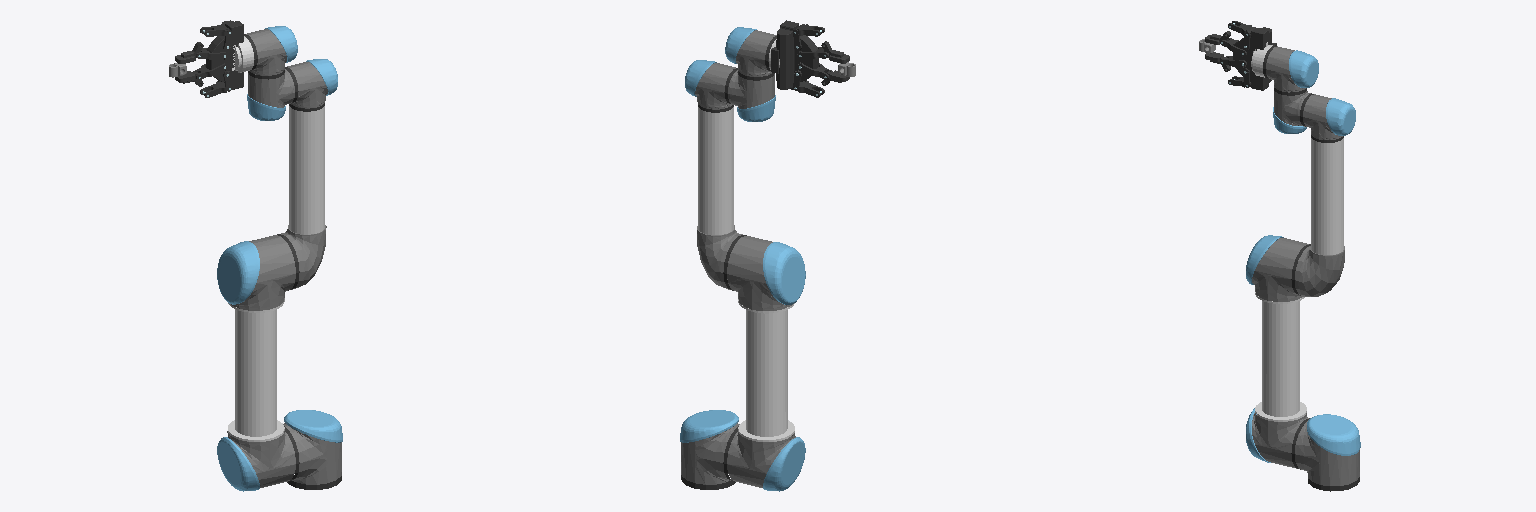
--- Render facts (derived) ---
Views: 3 orthographic renders of the robot side by side, from view 1: azimuth 30°, elevation 25°; view 2: azimuth 150°, elevation 25°; view 3: azimuth 330°, elevation 25°.
Robot: robot_base_respondable — 17 links, 16 joints (10 revolute, 6 continuous); root link robot_base; default pose: all joints at 0.
Links seen in each view (by area): view 1: link_2_respondable_respondable_respondable_respondable_respondab, link_3_respondable_respondable_respondable_respondable_respondab, link_respondable_respondable_respondable_respondable_respondable, link_5_respondable_respondable_respondable_respondable_respondab, link_4_respondable_respondable_respondable_respondable_respondab, robotiq_base_respondable_respondable_respondable_respondable_res, link_6_respondable_respondable_respondable_respondable_respondab; view 2: link_2_respondable_respondable_respondable_respondable_respondab, link_3_respondable_respondable_respondable_respondable_respondab, link_respondable_respondable_respondable_respondable_respondable, link_5_respondable_respondable_respondable_respondable_respondab, link_4_respondable_respondable_respondable_respondable_respondab, robotiq_base_respondable_respondable_respondable_respondable_res; view 3: link_2_respondable_respondable_respondable_respondable_respondab, link_3_respondable_respondable_respondable_respondable_respondab, link_respondable_respondable_respondable_respondable_respondable, link_5_respondable_respondable_respondable_respondable_respondab, link_4_respondable_respondable_respondable_respondable_respondab, robotiq_base_respondable_respondable_respondable_respondable_res.
Boxes of the visible links, x1,y1,x2,y2 form: link_2_respondable_respondable_respondable_respondable_respondab: (217,234,299,491); link_3_respondable_respondable_respondable_respondable_respondab: (281,59,337,289); link_respondable_respondable_respondable_respondable_respondable: (283,410,342,484); link_5_respondable_respondable_respondable_respondable_respondab: (244,26,297,79); link_4_respondable_respondable_respondable_respondable_respondab: (247,67,298,120); robotiq_base_respondable_respondable_respondable_respondable_res: (206,20,243,89); link_6_respondable_respondable_respondable_respondable_respondab: (235,36,253,72); link_2_respondable_respondable_respondable_respondable_respondab: (723,235,805,491); link_3_respondable_respondable_respondable_respondable_respondab: (685,60,742,289); link_respondable_respondable_respondable_respondable_respondable: (680,410,739,484); link_5_respondable_respondable_respondable_respondable_respondab: (725,27,776,80); link_4_respondable_respondable_respondable_respondable_respondab: (724,68,775,121); robotiq_base_respondable_respondable_respondable_respondable_res: (771,20,818,89); link_2_respondable_respondable_respondable_respondable_respondab: (1246,235,1310,468); link_3_respondable_respondable_respondable_respondable_respondab: (1295,94,1355,296); link_respondable_respondable_respondable_respondable_respondable: (1291,414,1360,485); link_5_respondable_respondable_respondable_respondable_respondab: (1263,46,1318,95); link_4_respondable_respondable_respondable_respondable_respondab: (1273,91,1313,133); robotiq_base_respondable_respondable_respondable_respondable_res: (1233,27,1276,90).
Size in the robot's own frame: 0.3992 by 0.12 by 1.06 metres.
Meshes: 42 distinct files referenced, 42 mesh visuals loaded (42 Collada DAE).

The robot description file, URDF, robot "robot_base_respondable":
<?xml version="1.0"?>
<robot name="robot_base_respondable">
    <link name="robot_base">
        <collision name="robot_base_respondable">
            <origin xyz="0.000000 0.000000 0.008500" rpy="3.141592 3.141593 -2.552481" />
            <geometry>
                <cylinder length="0.012300089001656" radius="0.056886240839958" />
            </geometry>
        </collision>
        <collision name="robot_base_respondable">
            <origin xyz="0.000000 0.000000 -0.006150" rpy="-3.141592 3.141593 1.747927" />
            <geometry>
                <cylinder length="0.017000352963805" radius="0.072642646729946" />
            </geometry>
        </collision>
        <visual name="robot_base_visual">
            <origin xyz="0.000000 0.000000 -0.000000" rpy="3.141592 3.141593 3.141592" />
            <geometry>
                <mesh filename="models/urdf/ur5_industrial_16505/ur5_industrial_1_robot_base_visual_vis_1.dae" />
            </geometry>
            <material name="robot_base_visual_material">
                <color rgba="0.282353 0.282353 0.282353 1.0" />
            </material>
        </visual>
    </link>
    <joint type="revolute" name="joint">
        <axis xyz="0 0 1" />
        <limit lower="-6.2831854820251" upper="6.2831854820251" effort="200.0" velocity="1.5707963705063" />
        <parent link="robot_base" />
        <child link="link_respondable_respondable_respondable_respondable_respondable_respondable" />
        <origin xyz="-0.000000 0.000000 0.008500" rpy="3.141592 3.141593 3.141592" />
    </joint>
    <link name="link_respondable_respondable_respondable_respondable_respondable_respondable">
        <inertial>
            <origin rpy="3.141592 3.141593 3.141592" xyz="-0.012312 0.000048 0.066405" />
            <inertia izz="0.09818059467752" iyy="0.10672965841326" ixz="0.0024490834762624" ixy="8.9516803607533e-05" ixx="0.095492165355254" iyz="-7.9251186174956e-05" />
            <mass value="2.5" />
        </inertial>
        <collision name="link_respondable_respondable_respondable_respondable_respondable_respondable">
            <origin xyz="-0.007178 0.000095 0.070381" rpy="3.141592 3.141593 3.141592" />
            <geometry>
                <mesh filename="models/urdf/ur5_industrial_16505/ur5_industrial_1_link_respondable_respondable_respondable_respondable_respondable_respondable_coll_1.dae" />
            </geometry>
        </collision>
        <collision name="link_respondable_respondable_respondable_respondable_respondable_respondable">
            <origin xyz="-0.007178 0.000095 0.070381" rpy="3.141592 3.141593 3.141592" />
            <geometry>
                <mesh filename="models/urdf/ur5_industrial_16505/ur5_industrial_1_link_respondable_respondable_respondable_respondable_respondable_respondable_coll_2.dae" />
            </geometry>
        </collision>
        <collision name="link_respondable_respondable_respondable_respondable_respondable_respondable">
            <origin xyz="-0.007178 0.000095 0.070381" rpy="3.141592 3.141593 3.141592" />
            <geometry>
                <mesh filename="models/urdf/ur5_industrial_16505/ur5_industrial_1_link_respondable_respondable_respondable_respondable_respondable_respondable_coll_3.dae" />
            </geometry>
        </collision>
        <visual name="link_respondable_respondable_respondable_respondable_respondable_visual">
            <origin xyz="-0.007150 0.000000 0.070335" rpy="3.141592 3.141593 3.141592" />
            <geometry>
                <mesh filename="models/urdf/ur5_industrial_16505/ur5_industrial_1_link_respondable_respondable_respondable_respondable_respondable_visual_vis_1.dae" />
            </geometry>
            <material name="link_respondable_respondable_respondable_respondable_respondable_visual_material">
                <color rgba="0.282353 0.282353 0.282353 1.0" />
            </material>
        </visual>
        <visual name="link_respondable_respondable_respondable_respondable_respondable_visual">
            <origin xyz="-0.007150 0.000000 0.070335" rpy="3.141592 3.141593 3.141592" />
            <geometry>
                <mesh filename="models/urdf/ur5_industrial_16505/ur5_industrial_1_link_respondable_respondable_respondable_respondable_respondable_visual_vis_2.dae" />
            </geometry>
            <material name="link_respondable_respondable_respondable_respondable_respondable_visual_material">
                <color rgba="0.535294 0.535294 0.535294 1.0" />
            </material>
        </visual>
        <visual name="link_respondable_respondable_respondable_respondable_respondable_visual">
            <origin xyz="-0.007150 0.000000 0.070335" rpy="3.141592 3.141593 3.141592" />
            <geometry>
                <mesh filename="models/urdf/ur5_industrial_16505/ur5_industrial_1_link_respondable_respondable_respondable_respondable_respondable_visual_vis_3.dae" />
            </geometry>
            <material name="link_respondable_respondable_respondable_respondable_respondable_visual_material">
                <color rgba="0.508235 0.761224 0.903529 1.0" />
            </material>
        </visual>
    </link>
    <joint type="revolute" name="joint_2">
        <axis xyz="0 0 1" />
        <limit lower="-6.2831854820251" upper="6.2831854820251" effort="200.0" velocity="1.5707963705063" />
        <parent link="link_respondable_respondable_respondable_respondable_respondable_respondable" />
        <child link="link_2_respondable_respondable_respondable_respondable_respondable_respondable" />
        <origin xyz="-0.070300 0.000000 0.066050" rpy="0.000001 -1.570796 0.000000" />
    </joint>
    <link name="link_2_respondable_respondable_respondable_respondable_respondable_respondable">
        <inertial>
            <origin rpy="-0.000000 1.570796 0.000000" xyz="0.215595 -0.000035 0.063573" />
            <inertia izz="0.067345368316432" iyy="0.63325135224174" ixz="-0.0052638063542259" ixy="9.2431180680848e-06" ixx="0.62573305153059" iyz="-0.00017721757850982" />
            <mass value="5.6999998092651" />
        </inertial>
        <collision name="link_2_respondable_respondable_respondable_respondable_respondable_respondable">
            <origin xyz="0.212550 -0.000115 0.064235" rpy="-0.000000 1.570796 0.000000" />
            <geometry>
                <mesh filename="models/urdf/ur5_industrial_16505/ur5_industrial_1_link_2_respondable_respondable_respondable_respondable_respondable_respondable_coll_1.dae" />
            </geometry>
        </collision>
        <collision name="link_2_respondable_respondable_respondable_respondable_respondable_respondable">
            <origin xyz="0.212550 -0.000115 0.064235" rpy="-0.000000 1.570796 0.000000" />
            <geometry>
                <mesh filename="models/urdf/ur5_industrial_16505/ur5_industrial_1_link_2_respondable_respondable_respondable_respondable_respondable_respondable_coll_2.dae" />
            </geometry>
        </collision>
        <collision name="link_2_respondable_respondable_respondable_respondable_respondable_respondable">
            <origin xyz="0.212550 -0.000115 0.064235" rpy="-0.000000 1.570796 0.000000" />
            <geometry>
                <mesh filename="models/urdf/ur5_industrial_16505/ur5_industrial_1_link_2_respondable_respondable_respondable_respondable_respondable_respondable_coll_3.dae" />
            </geometry>
        </collision>
        <collision name="link_2_respondable_respondable_respondable_respondable_respondable_respondable">
            <origin xyz="0.212550 -0.000115 0.064235" rpy="-0.000000 1.570796 0.000000" />
            <geometry>
                <mesh filename="models/urdf/ur5_industrial_16505/ur5_industrial_1_link_2_respondable_respondable_respondable_respondable_respondable_respondable_coll_4.dae" />
            </geometry>
        </collision>
        <collision name="link_2_respondable_respondable_respondable_respondable_respondable_respondable">
            <origin xyz="0.212550 -0.000115 0.064235" rpy="-0.000000 1.570796 0.000000" />
            <geometry>
                <mesh filename="models/urdf/ur5_industrial_16505/ur5_industrial_1_link_2_respondable_respondable_respondable_respondable_respondable_respondable_coll_5.dae" />
            </geometry>
        </collision>
        <collision name="link_2_respondable_respondable_respondable_respondable_respondable_respondable">
            <origin xyz="0.212550 -0.000115 0.064235" rpy="-0.000000 1.570796 0.000000" />
            <geometry>
                <mesh filename="models/urdf/ur5_industrial_16505/ur5_industrial_1_link_2_respondable_respondable_respondable_respondable_respondable_respondable_coll_6.dae" />
            </geometry>
        </collision>
        <collision name="link_2_respondable_respondable_respondable_respondable_respondable_respondable">
            <origin xyz="0.212550 -0.000115 0.064235" rpy="-0.000000 1.570796 0.000000" />
            <geometry>
                <mesh filename="models/urdf/ur5_industrial_16505/ur5_industrial_1_link_2_respondable_respondable_respondable_respondable_respondable_respondable_coll_7.dae" />
            </geometry>
        </collision>
        <visual name="link_2_respondable_respondable_respondable_respondable_respondable_visual">
            <origin xyz="0.212550 0.000000 0.064217" rpy="-0.000000 1.570796 0.000000" />
            <geometry>
                <mesh filename="models/urdf/ur5_industrial_16505/ur5_industrial_1_link_2_respondable_respondable_respondable_respondable_respondable_visual_vis_1.dae" />
            </geometry>
            <material name="link_2_respondable_respondable_respondable_respondable_respondable_visual_material">
                <color rgba="0.870588 0.870588 0.870588 1.0" />
            </material>
        </visual>
        <visual name="link_2_respondable_respondable_respondable_respondable_respondable_visual">
            <origin xyz="0.212550 0.000000 0.064217" rpy="-0.000000 1.570796 0.000000" />
            <geometry>
                <mesh filename="models/urdf/ur5_industrial_16505/ur5_industrial_1_link_2_respondable_respondable_respondable_respondable_respondable_visual_vis_2.dae" />
            </geometry>
            <material name="link_2_respondable_respondable_respondable_respondable_respondable_visual_material">
                <color rgba="0.508235 0.761224 0.903529 1.0" />
            </material>
        </visual>
        <visual name="link_2_respondable_respondable_respondable_respondable_respondable_visual">
            <origin xyz="0.212550 0.000000 0.064217" rpy="-0.000000 1.570796 0.000000" />
            <geometry>
                <mesh filename="models/urdf/ur5_industrial_16505/ur5_industrial_1_link_2_respondable_respondable_respondable_respondable_respondable_visual_vis_3.dae" />
            </geometry>
            <material name="link_2_respondable_respondable_respondable_respondable_respondable_visual_material">
                <color rgba="0.535294 0.535294 0.535294 1.0" />
            </material>
        </visual>
        <visual name="link_2_respondable_respondable_respondable_respondable_respondable_visual">
            <origin xyz="0.212550 0.000000 0.064217" rpy="-0.000000 1.570796 0.000000" />
            <geometry>
                <mesh filename="models/urdf/ur5_industrial_16505/ur5_industrial_1_link_2_respondable_respondable_respondable_respondable_respondable_visual_vis_4.dae" />
            </geometry>
            <material name="link_2_respondable_respondable_respondable_respondable_respondable_visual_material">
                <color rgba="0.282353 0.282353 0.282353 1.0" />
            </material>
        </visual>
        <visual name="link_2_respondable_respondable_respondable_respondable_respondable_visual">
            <origin xyz="0.212550 0.000000 0.064217" rpy="-0.000000 1.570796 0.000000" />
            <geometry>
                <mesh filename="models/urdf/ur5_industrial_16505/ur5_industrial_1_link_2_respondable_respondable_respondable_respondable_respondable_visual_vis_5.dae" />
            </geometry>
            <material name="link_2_respondable_respondable_respondable_respondable_respondable_visual_material">
                <color rgba="0.535294 0.535294 0.535294 1.0" />
            </material>
        </visual>
        <visual name="link_2_respondable_respondable_respondable_respondable_respondable_visual">
            <origin xyz="0.212550 0.000000 0.064217" rpy="-0.000000 1.570796 0.000000" />
            <geometry>
                <mesh filename="models/urdf/ur5_industrial_16505/ur5_industrial_1_link_2_respondable_respondable_respondable_respondable_respondable_visual_vis_6.dae" />
            </geometry>
            <material name="link_2_respondable_respondable_respondable_respondable_respondable_visual_material">
                <color rgba="0.508235 0.761224 0.903529 1.0" />
            </material>
        </visual>
    </link>
    <joint type="revolute" name="joint_3">
        <axis xyz="0 0 1" />
        <limit lower="-6.2831854820251" upper="6.2831854820251" effort="200.0" velocity="1.5707963705063" />
        <parent link="link_2_respondable_respondable_respondable_respondable_respondable_respondable" />
        <child link="link_3_respondable_respondable_respondable_respondable_respondable_respondable" />
        <origin xyz="0.425100 -0.000000 0.000000" rpy="3.141593 3.141592 3.141592" />
    </joint>
    <link name="link_3_respondable_respondable_respondable_respondable_respondable_respondable">
        <inertial>
            <origin rpy="0.000000 1.570796 0.000000" xyz="0.192773 0.000015 -0.050153" />
            <inertia izz="0.035597955537677" iyy="0.46060709235019" ixz="-0.027670910392482" ixy="2.2187787147887e-06" ixx="0.4592564485459" iyz="-2.1029099787318e-05" />
            <mass value="3.9000000953674" />
        </inertial>
        <collision name="link_3_respondable_respondable_respondable_respondable_respondable_respondable">
            <origin xyz="0.186773 0.000016 -0.057847" rpy="0.000000 1.570796 0.000000" />
            <geometry>
                <mesh filename="models/urdf/ur5_industrial_16505/ur5_industrial_1_link_3_respondable_respondable_respondable_respondable_respondable_respondable_coll_1.dae" />
            </geometry>
        </collision>
        <collision name="link_3_respondable_respondable_respondable_respondable_respondable_respondable">
            <origin xyz="0.186773 0.000016 -0.057847" rpy="0.000000 1.570796 0.000000" />
            <geometry>
                <mesh filename="models/urdf/ur5_industrial_16505/ur5_industrial_1_link_3_respondable_respondable_respondable_respondable_respondable_respondable_coll_2.dae" />
            </geometry>
        </collision>
        <collision name="link_3_respondable_respondable_respondable_respondable_respondable_respondable">
            <origin xyz="0.186773 0.000016 -0.057847" rpy="0.000000 1.570796 0.000000" />
            <geometry>
                <mesh filename="models/urdf/ur5_industrial_16505/ur5_industrial_1_link_3_respondable_respondable_respondable_respondable_respondable_respondable_coll_3.dae" />
            </geometry>
        </collision>
        <collision name="link_3_respondable_respondable_respondable_respondable_respondable_respondable">
            <origin xyz="0.186773 0.000016 -0.057847" rpy="0.000000 1.570796 0.000000" />
            <geometry>
                <mesh filename="models/urdf/ur5_industrial_16505/ur5_industrial_1_link_3_respondable_respondable_respondable_respondable_respondable_respondable_coll_4.dae" />
            </geometry>
        </collision>
        <collision name="link_3_respondable_respondable_respondable_respondable_respondable_respondable">
            <origin xyz="0.186773 0.000016 -0.057847" rpy="0.000000 1.570796 0.000000" />
            <geometry>
                <mesh filename="models/urdf/ur5_industrial_16505/ur5_industrial_1_link_3_respondable_respondable_respondable_respondable_respondable_respondable_coll_5.dae" />
            </geometry>
        </collision>
        <visual name="link_3_respondable_respondable_respondable_respondable_respondable_visual">
            <origin xyz="0.186650 -0.000000 -0.057850" rpy="0.000000 1.570796 0.000000" />
            <geometry>
                <mesh filename="models/urdf/ur5_industrial_16505/ur5_industrial_1_link_3_respondable_respondable_respondable_respondable_respondable_visual_vis_1.dae" />
            </geometry>
            <material name="link_3_respondable_respondable_respondable_respondable_respondable_visual_material">
                <color rgba="0.870588 0.870588 0.870588 1.0" />
            </material>
        </visual>
        <visual name="link_3_respondable_respondable_respondable_respondable_respondable_visual">
            <origin xyz="0.186650 -0.000000 -0.057850" rpy="0.000000 1.570796 0.000000" />
            <geometry>
                <mesh filename="models/urdf/ur5_industrial_16505/ur5_industrial_1_link_3_respondable_respondable_respondable_respondable_respondable_visual_vis_2.dae" />
            </geometry>
            <material name="link_3_respondable_respondable_respondable_respondable_respondable_visual_material">
                <color rgba="0.535294 0.535294 0.535294 1.0" />
            </material>
        </visual>
        <visual name="link_3_respondable_respondable_respondable_respondable_respondable_visual">
            <origin xyz="0.186650 -0.000000 -0.057850" rpy="0.000000 1.570796 0.000000" />
            <geometry>
                <mesh filename="models/urdf/ur5_industrial_16505/ur5_industrial_1_link_3_respondable_respondable_respondable_respondable_respondable_visual_vis_3.dae" />
            </geometry>
            <material name="link_3_respondable_respondable_respondable_respondable_respondable_visual_material">
                <color rgba="0.508235 0.761224 0.903529 1.0" />
            </material>
        </visual>
        <visual name="link_3_respondable_respondable_respondable_respondable_respondable_visual">
            <origin xyz="0.186650 -0.000000 -0.057850" rpy="0.000000 1.570796 0.000000" />
            <geometry>
                <mesh filename="models/urdf/ur5_industrial_16505/ur5_industrial_1_link_3_respondable_respondable_respondable_respondable_respondable_visual_vis_4.dae" />
            </geometry>
            <material name="link_3_respondable_respondable_respondable_respondable_respondable_visual_material">
                <color rgba="0.282353 0.282353 0.282353 1.0" />
            </material>
        </visual>
        <visual name="link_3_respondable_respondable_respondable_respondable_respondable_visual">
            <origin xyz="0.186650 -0.000000 -0.057850" rpy="0.000000 1.570796 0.000000" />
            <geometry>
                <mesh filename="models/urdf/ur5_industrial_16505/ur5_industrial_1_link_3_respondable_respondable_respondable_respondable_respondable_visual_vis_5.dae" />
            </geometry>
            <material name="link_3_respondable_respondable_respondable_respondable_respondable_visual_material">
                <color rgba="0.535294 0.535294 0.535294 1.0" />
            </material>
        </visual>
    </link>
    <joint type="revolute" name="joint_4">
        <axis xyz="0 0 1" />
        <limit lower="-6.2831854820251" upper="6.2831854820251" effort="200.0" velocity="1.5707963705063" />
        <parent link="link_3_respondable_respondable_respondable_respondable_respondable_respondable" />
        <child link="link_4_respondable_respondable_respondable_respondable_respondable_respondable" />
        <origin xyz="0.392150 -0.000000 0.000000" rpy="3.141593 3.141592 3.141592" />
    </joint>
    <link name="link_4_respondable_respondable_respondable_respondable_respondable_respondable">
        <inertial>
            <origin rpy="0.000000 1.570796 0.000000" xyz="-0.005517 -0.000003 0.030943" />
            <inertia izz="0.087106483494915" iyy="0.11466452218562" ixz="-0.0020900872562349" ixy="3.1976010243315e-06" ixx="0.10017005794782" iyz="-1.791527123899e-05" />
            <mass value="2.5" />
        </inertial>
        <collision name="link_4_respondable_respondable_respondable_respondable_respondable_respondable">
            <origin xyz="-0.007501 -0.000045 0.032830" rpy="0.000000 1.570796 0.000000" />
            <geometry>
                <mesh filename="models/urdf/ur5_industrial_16505/ur5_industrial_1_link_4_respondable_respondable_respondable_respondable_respondable_respondable_coll_1.dae" />
            </geometry>
        </collision>
        <collision name="link_4_respondable_respondable_respondable_respondable_respondable_respondable">
            <origin xyz="-0.007501 -0.000045 0.032830" rpy="0.000000 1.570796 0.000000" />
            <geometry>
                <mesh filename="models/urdf/ur5_industrial_16505/ur5_industrial_1_link_4_respondable_respondable_respondable_respondable_respondable_respondable_coll_2.dae" />
            </geometry>
        </collision>
        <collision name="link_4_respondable_respondable_respondable_respondable_respondable_respondable">
            <origin xyz="-0.007501 -0.000045 0.032830" rpy="0.000000 1.570796 0.000000" />
            <geometry>
                <mesh filename="models/urdf/ur5_industrial_16505/ur5_industrial_1_link_4_respondable_respondable_respondable_respondable_respondable_respondable_coll_3.dae" />
            </geometry>
        </collision>
        <visual name="link_4_respondable_respondable_respondable_respondable_respondable_visual">
            <origin xyz="-0.007500 0.000000 0.032800" rpy="0.000000 1.570796 0.000000" />
            <geometry>
                <mesh filename="models/urdf/ur5_industrial_16505/ur5_industrial_1_link_4_respondable_respondable_respondable_respondable_respondable_visual_vis_1.dae" />
            </geometry>
            <material name="link_4_respondable_respondable_respondable_respondable_respondable_visual_material">
                <color rgba="0.282353 0.282353 0.282353 1.0" />
            </material>
        </visual>
        <visual name="link_4_respondable_respondable_respondable_respondable_respondable_visual">
            <origin xyz="-0.007500 0.000000 0.032800" rpy="0.000000 1.570796 0.000000" />
            <geometry>
                <mesh filename="models/urdf/ur5_industrial_16505/ur5_industrial_1_link_4_respondable_respondable_respondable_respondable_respondable_visual_vis_2.dae" />
            </geometry>
            <material name="link_4_respondable_respondable_respondable_respondable_respondable_visual_material">
                <color rgba="0.535294 0.535294 0.535294 1.0" />
            </material>
        </visual>
        <visual name="link_4_respondable_respondable_respondable_respondable_respondable_visual">
            <origin xyz="-0.007500 0.000000 0.032800" rpy="0.000000 1.570796 0.000000" />
            <geometry>
                <mesh filename="models/urdf/ur5_industrial_16505/ur5_industrial_1_link_4_respondable_respondable_respondable_respondable_respondable_visual_vis_3.dae" />
            </geometry>
            <material name="link_4_respondable_respondable_respondable_respondable_respondable_visual_material">
                <color rgba="0.508235 0.761224 0.903529 1.0" />
            </material>
        </visual>
    </link>
    <joint type="revolute" name="joint_5">
        <axis xyz="0 0 1" />
        <limit lower="-6.2831854820251" upper="6.2831854820251" effort="200.0" velocity="1.5707963705063" />
        <parent link="link_4_respondable_respondable_respondable_respondable_respondable_respondable" />
        <child link="link_5_respondable_respondable_respondable_respondable_respondable_respondable" />
        <origin xyz="0.045575 -0.000000 0.039700" rpy="2.596272 1.570799 2.596272" />
    </joint>
    <link name="link_5_respondable_respondable_respondable_respondable_respondable_respondable">
        <inertial>
            <origin rpy="3.141592 3.141593 3.141592" xyz="0.002100 0.000002 0.040669" />
            <inertia izz="0.1041509279002" iyy="0.11739579576874" ixz="-0.00073245390311674" ixy="-1.5531769026879e-05" ixx="0.08179215416809" iyz="3.8714712477568e-06" />
            <mass value="2.5" />
        </inertial>
        <collision name="link_5_respondable_respondable_respondable_respondable_respondable_respondable">
            <origin xyz="0.003601 0.000045 0.042305" rpy="3.141592 3.141593 3.141592" />
            <geometry>
                <mesh filename="models/urdf/ur5_industrial_16505/ur5_industrial_1_link_5_respondable_respondable_respondable_respondable_respondable_respondable_coll_1.dae" />
            </geometry>
        </collision>
        <collision name="link_5_respondable_respondable_respondable_respondable_respondable_respondable">
            <origin xyz="0.003601 0.000045 0.042305" rpy="3.141592 3.141593 3.141592" />
            <geometry>
                <mesh filename="models/urdf/ur5_industrial_16505/ur5_industrial_1_link_5_respondable_respondable_respondable_respondable_respondable_respondable_coll_2.dae" />
            </geometry>
        </collision>
        <collision name="link_5_respondable_respondable_respondable_respondable_respondable_respondable">
            <origin xyz="0.003601 0.000045 0.042305" rpy="3.141592 3.141593 3.141592" />
            <geometry>
                <mesh filename="models/urdf/ur5_industrial_16505/ur5_industrial_1_link_5_respondable_respondable_respondable_respondable_respondable_respondable_coll_3.dae" />
            </geometry>
        </collision>
        <visual name="link_5_respondable_respondable_respondable_respondable_respondable_visual">
            <origin xyz="0.003600 -0.000000 0.042275" rpy="3.141592 3.141593 3.141592" />
            <geometry>
                <mesh filename="models/urdf/ur5_industrial_16505/ur5_industrial_1_link_5_respondable_respondable_respondable_respondable_respondable_visual_vis_1.dae" />
            </geometry>
            <material name="link_5_respondable_respondable_respondable_respondable_respondable_visual_material">
                <color rgba="0.535294 0.535294 0.535294 1.0" />
            </material>
        </visual>
        <visual name="link_5_respondable_respondable_respondable_respondable_respondable_visual">
            <origin xyz="0.003600 -0.000000 0.042275" rpy="3.141592 3.141593 3.141592" />
            <geometry>
                <mesh filename="models/urdf/ur5_industrial_16505/ur5_industrial_1_link_5_respondable_respondable_respondable_respondable_respondable_visual_vis_2.dae" />
            </geometry>
            <material name="link_5_respondable_respondable_respondable_respondable_respondable_visual_material">
                <color rgba="0.508235 0.761224 0.903529 1.0" />
            </material>
        </visual>
        <visual name="link_5_respondable_respondable_respondable_respondable_respondable_visual">
            <origin xyz="0.003600 -0.000000 0.042275" rpy="3.141592 3.141593 3.141592" />
            <geometry>
                <mesh filename="models/urdf/ur5_industrial_16505/ur5_industrial_1_link_5_respondable_respondable_respondable_respondable_respondable_visual_vis_3.dae" />
            </geometry>
            <material name="link_5_respondable_respondable_respondable_respondable_respondable_visual_material">
                <color rgba="0.282353 0.282353 0.282353 1.0" />
            </material>
        </visual>
        <visual name="link_5_respondable_respondable_respondable_respondable_respondable_visual">
            <origin xyz="0.003600 -0.000000 0.042275" rpy="3.141592 3.141593 3.141592" />
            <geometry>
                <mesh filename="models/urdf/ur5_industrial_16505/ur5_industrial_1_link_5_respondable_respondable_respondable_respondable_respondable_visual_vis_4.dae" />
            </geometry>
            <material name="link_5_respondable_respondable_respondable_respondable_respondable_visual_material">
                <color rgba="0.282353 0.282353 0.282353 1.0" />
            </material>
        </visual>
    </link>
    <joint type="revolute" name="joint_6">
        <axis xyz="0 0 1" />
        <limit lower="-6.2831854820251" upper="6.2831854820251" effort="200.0" velocity="1.5707963705063" />
        <parent link="link_5_respondable_respondable_respondable_respondable_respondable_respondable" />
        <child link="link_6_respondable_respondable_respondable_respondable_respondable_respondable" />
        <origin xyz="0.014425 -0.000000 0.049175" rpy="-3.141592 4.712385 -3.141592" />
    </joint>
    <link name="link_6_respondable_respondable_respondable_respondable_respondable_respondable">
        <inertial>
            <origin rpy="-3.141593 3.141593 3.141592" xyz="0.000000 -0.000000 0.076675" />
            <inertia izz="0.010054638677955" iyy="0.0058406852103875" ixz="-2.0432933882088e-25" ixy="-5.1232196104835e-48" ixx="0.0058406852103875" iyz="2.0432933875776e-25" />
            <mass value="0.69999998807907" />
        </inertial>
        <collision name="link_6_respondable_respondable_respondable_respondable_respondable_respondable">
            <origin xyz="0.000000 -0.000000 0.076675" rpy="-3.141593 3.141593 3.141592" />
            <geometry>
                <cylinder length="0.025500684976578" radius="0.036602452397346" />
            </geometry>
        </collision>
        <visual name="link_6_respondable_respondable_respondable_respondable_respondable_visual">
            <origin xyz="0.003860 -0.000000 0.080425" rpy="0.000001 1.570796 0.000000" />
            <geometry>
                <mesh filename="models/urdf/ur5_industrial_16505/ur5_industrial_1_link_6_respondable_respondable_respondable_respondable_respondable_visual_vis_1.dae" />
            </geometry>
            <material name="link_6_respondable_respondable_respondable_respondable_respondable_visual_material">
                <color rgba="0.870588 0.870588 0.870588 1.0" />
            </material>
        </visual>
    </link>
    <joint type="revolute" name="joint_6_2">
        <axis xyz="0 0 1" />
        <limit lower="-6.2831854820251" upper="6.2831854820251" effort="200.0" velocity="1.5707963705063" />
        <parent link="link_6_respondable_respondable_respondable_respondable_respondable_respondable" />
        <child link="robotiq_base_respondable_respondable_respondable_respondable_respondable_respondable" />
        <origin xyz="0.014425 0.000000 0.049175" rpy="1.569831 4.712382 -1.569831" />
    </joint>
    <link name="robotiq_base_respondable_respondable_respondable_respondable_respondable_respondable">
        <inertial>
            <origin rpy="1.570796 3.141592 -3.141591" xyz="0.043899 0.008350 0.012000" />
            <inertia izz="0.00072521695233332" iyy="0.00024588701243668" ixz="3.003181387601e-05" ixy="-3.0779821975945e-10" ixx="0.00070222511049253" iyz="-2.9619775595086e-11" />
            <mass value="0.5" />
        </inertial>
        <collision name="robotiq_base_respondable_respondable_respondable_respondable_respondable_respondable">
            <origin xyz="0.030000 0.010000 0.012000" rpy="1.570796 3.141592 -3.141591" />
            <geometry>
                <box size="0.017463 0.050800 0.057938" />
            </geometry>
        </collision>
        <collision name="robotiq_base_respondable_respondable_respondable_respondable_respondable_respondable">
            <origin xyz="0.083032 -0.004681 0.012000" rpy="3.141592 3.141592 -3.141591" />
            <geometry>
                <box size="0.040000 0.020600 0.040000" />
            </geometry>
        </collision>
        <collision name="robotiq_base_respondable_respondable_respondable_respondable_respondable_respondable">
            <origin xyz="0.041272 0.009924 0.012000" rpy="-0.000001 3.141592 -3.141591" />
            <geometry>
                <box size="0.030480 0.051435 0.139700" />
            </geometry>
        </collision>
        <visual name="robotiq_base_respondable_respondable_respondable_respondable_respondable_visual">
            <origin xyz="0.062151 0.010000 0.012000" rpy="-0.000010 1.570796 0.000000" />
            <geometry>
                <mesh filename="models/urdf/ur5_industrial_16505/ur5_industrial_1_robotiq_base_respondable_respondable_respondable_respondable_respondable_visual_vis_1.dae" />
            </geometry>
            <material name="robotiq_base_respondable_respondable_respondable_respondable_respondable_visual_material">
                <color rgba="0.282317 0.282389 0.282389 1.0" />
            </material>
        </visual>
        <visual name="robotiq_base_respondable_respondable_respondable_respondable_respondable_visual">
            <origin xyz="0.062151 0.010000 0.012000" rpy="-0.000010 1.570796 0.000000" />
            <geometry>
                <mesh filename="models/urdf/ur5_industrial_16505/ur5_industrial_1_robotiq_base_respondable_respondable_respondable_respondable_respondable_visual_vis_2.dae" />
            </geometry>
            <material name="robotiq_base_respondable_respondable_respondable_respondable_respondable_visual_material">
                <color rgba="1.000000 1.000000 1.000000 1.0" />
            </material>
        </visual>
    </link>
    <joint type="revolute" name="joint_6_3">
        <axis xyz="0 0 1" />
        <limit lower="-6.2831854820251" upper="6.2831854820251" effort="200.0" velocity="1.5707963705063" />
        <parent link="robotiq_base_respondable_respondable_respondable_respondable_respondable_respondable" />
        <child link="dynamic" />
        <origin xyz="0.030000 0.010000 0.012000" rpy="1.570754 3.141589 -1.570804" />
    </joint>
    <link name="dynamic">
        <visual name="dynamic">
            <origin xyz="-0.014500 0.000000 -0.144000" rpy="1.570796 1.570796 0.000000" />
            <geometry>
                <mesh filename="models/urdf/ur5_industrial_16505/ur5_industrial_1_dynamic_vis_1.dae" />
            </geometry>
            <material name="dynamic_material">
                <color rgba="0.600000 0.600000 0.600000 1.0" />
            </material>
        </visual>
    </link>
    <joint type="revolute" name="Rjoint1">
        <axis xyz="0 0 1" />
        <limit lower="0.0" upper="0.78539818525314" effort="1.0" velocity="0.69813168048859" />
        <parent link="robotiq_base_respondable_respondable_respondable_respondable_respondable_respondable" />
        <child link="Rfinger_respondable_respondable_respondable_respondable_respondable_respondable" />
        <origin xyz="0.074600 -0.004681 -0.000738" rpy="-1.365597 1.570798 -2.936391" />
    </joint>
    <link name="Rfinger_respondable_respondable_respondable_respondable_respondable_respondable">
        <inertial>
            <origin rpy="1.570973 3.138398 -0.197315" xyz="0.005488 0.027095 -0.000010" />
            <inertia izz="7.6569405819033e-06" iyy="2.9984947551464e-05" ixz="2.1062598132683e-20" ixy="2.8300690834922e-21" ixx="3.4844272621657e-05" iyz="2.6073848673186e-20" />
            <mass value="0.10000000149012" />
        </inertial>
        <collision name="Rfinger_respondable_respondable_respondable_respondable_respondable_respondable">
            <origin xyz="0.005488 0.027095 -0.000010" rpy="1.570973 3.138398 -0.197315" />
            <geometry>
                <box size="0.015803 0.033427 0.071444" />
            </geometry>
        </collision>
        <visual name="Rfinger_respondable_respondable_respondable_respondable_respondable_visual">
            <origin xyz="0.005488 0.027095 -0.000010" rpy="1.570973 3.138398 -0.197315" />
            <geometry>
                <mesh filename="models/urdf/ur5_industrial_16505/ur5_industrial_1_Rfinger_respondable_respondable_respondable_respondable_respondable_visual_vis_1.dae" />
            </geometry>
            <material name="Rfinger_respondable_respondable_respondable_respondable_respondable_visual_material">
                <color rgba="0.282317 0.282389 0.282389 1.0" />
            </material>
        </visual>
        <visual name="Rfinger_respondable_respondable_respondable_respondable_respondable_visual">
            <origin xyz="0.005488 0.027095 -0.000010" rpy="1.570973 3.138398 -0.197315" />
            <geometry>
                <mesh filename="models/urdf/ur5_industrial_16505/ur5_industrial_1_Rfinger_respondable_respondable_respondable_respondable_respondable_visual_vis_2.dae" />
            </geometry>
            <material name="Rfinger_respondable_respondable_respondable_respondable_respondable_visual_material">
                <color rgba="0.837524 0.970755 1.000000 1.0" />
            </material>
        </visual>
    </link>
    <joint type="continuous" name="Rjoint2">
        <axis xyz="0 0 1" />
        <parent link="Rfinger_respondable_respondable_respondable_respondable_respondable_respondable" />
        <child link="RfingerTip_respondable_respondable_respondable_respondable_respondable_respondable" />
        <origin xyz="0.011178 0.055908 -0.000005" rpy="3.141588 3.141599 -2.617992" />
    </joint>
    <link name="RfingerTip_respondable_respondable_respondable_respondable_respondable_respondable">
        <inertial>
            <origin rpy="1.570807 3.141584 2.617863" xyz="0.011427 0.016336 0.000003" />
            <inertia izz="1.0653877098426e-05" iyy="3.3094096464058e-05" ixz="9.351945982435e-06" ixy="-1.5997928581758e-09" ixx="3.0898972527854e-05" iyz="3.040203109114e-09" />
            <mass value="0.10000000149012" />
        </inertial>
        <collision name="RfingerTip_respondable_respondable_respondable_respondable_respondable_respondable">
            <origin xyz="0.011082 0.025433 0.000005" rpy="1.570807 3.141584 2.617863" />
            <geometry>
                <box size="0.009509 0.025404 0.036832" />
            </geometry>
        </collision>
        <collision name="RfingerTip_respondable_respondable_respondable_respondable_respondable_respondable">
            <origin xyz="0.014106 0.016939 0.000003" rpy="-1.570950 3.141603 -0.523730" />
            <geometry>
                <box size="0.008509 0.014223 0.025144" />
            </geometry>
        </collision>
        <collision name="RfingerTip_respondable_respondable_respondable_respondable_respondable_respondable">
            <origin xyz="0.009791 -0.010308 -0.000000" rpy="2.669909 1.571059 -1.519009" />
            <geometry>
                <box size="0.011078 0.012672 0.022135" />
            </geometry>
        </collision>
        <visual name="RfingerTip_respondable_respondable_respondable_respondable_respondable_visual">
            <origin xyz="0.015278 0.010303 0.000004" rpy="1.570938 3.141584 2.617889" />
            <geometry>
                <mesh filename="models/urdf/ur5_industrial_16505/ur5_industrial_1_RfingerTip_respondable_respondable_respondable_respondable_respondable_visual_vis_1.dae" />
            </geometry>
            <material name="RfingerTip_respondable_respondable_respondable_respondable_respondable_visual_material">
                <color rgba="0.282317 0.282389 0.282389 1.0" />
            </material>
        </visual>
        <visual name="RfingerTip_respondable_respondable_respondable_respondable_respondable_visual">
            <origin xyz="0.015278 0.010303 0.000004" rpy="1.570938 3.141584 2.617889" />
            <geometry>
                <mesh filename="models/urdf/ur5_industrial_16505/ur5_industrial_1_RfingerTip_respondable_respondable_respondable_respondable_respondable_visual_vis_2.dae" />
            </geometry>
            <material name="RfingerTip_respondable_respondable_respondable_respondable_respondable_visual_material">
                <color rgba="0.305882 0.305882 0.305882 1.0" />
            </material>
        </visual>
    </link>
    <joint type="continuous" name="RactiveJoint">
        <axis xyz="0 0 1" />
        <parent link="robotiq_base_respondable_respondable_respondable_respondable_respondable_respondable" />
        <child link="RauxLink1Visible_visual_visual_visual_visual_visual_visual" />
        <origin xyz="0.067942 -0.004681 -0.018601" rpy="-1.365597 1.570798 -2.936391" />
    </joint>
    <link name="RauxLink1Visible_visual_visual_visual_visual_visual_visual">
        <visual name="RauxLink1Visible_visual_visual_visual_visual_visual_visual">
            <origin xyz="0.014963 -0.001623 0.000001" rpy="-1.570931 3.141677 -1.674482" />
            <geometry>
                <mesh filename="models/urdf/ur5_industrial_16505/ur5_industrial_1_RauxLink1Visible_visual_visual_visual_visual_visual_visual_vis_1.dae" />
            </geometry>
            <material name="RauxLink1Visible_visual_visual_visual_visual_visual_visual_material">
                <color rgba="0.282317 0.282389 0.282389 1.0" />
            </material>
        </visual>
        <visual name="RauxLink1Visible_visual_visual_visual_visual_visual_visual">
            <origin xyz="0.014963 -0.001623 0.000001" rpy="-1.570931 3.141677 -1.674482" />
            <geometry>
                <mesh filename="models/urdf/ur5_industrial_16505/ur5_industrial_1_RauxLink1Visible_visual_visual_visual_visual_visual_visual_vis_2.dae" />
            </geometry>
            <material name="RauxLink1Visible_visual_visual_visual_visual_visual_visual_material">
                <color rgba="0.837524 0.970755 1.000000 1.0" />
            </material>
        </visual>
    </link>
    <joint type="continuous" name="RauxJoint2">
        <axis xyz="0 0 1" />
        <parent link="RauxLink1Visible_visual_visual_visual_visual_visual_visual" />
        <child link="RauxLink2Visible_visual_visual_visual_visual_visual_visual" />
        <origin xyz="0.031465 -0.004244 0.000000" rpy="-3.141592 3.141593 -3.141592" />
    </joint>
    <link name="RauxLink2Visible_visual_visual_visual_visual_visual_visual">
        <visual name="RauxLink2Visible_visual_visual_visual_visual_visual_visual">
            <origin xyz="0.003104 0.023609 0.000000" rpy="-1.570795 3.141585 -0.130688" />
            <geometry>
                <mesh filename="models/urdf/ur5_industrial_16505/ur5_industrial_1_RauxLink2Visible_visual_visual_visual_visual_visual_visual_vis_1.dae" />
            </geometry>
            <material name="RauxLink2Visible_visual_visual_visual_visual_visual_visual_material">
                <color rgba="0.282317 0.282389 0.282389 1.0" />
            </material>
        </visual>
        <visual name="RauxLink2Visible_visual_visual_visual_visual_visual_visual">
            <origin xyz="0.003104 0.023609 0.000000" rpy="-1.570795 3.141585 -0.130688" />
            <geometry>
                <mesh filename="models/urdf/ur5_industrial_16505/ur5_industrial_1_RauxLink2Visible_visual_visual_visual_visual_visual_visual_vis_2.dae" />
            </geometry>
            <material name="RauxLink2Visible_visual_visual_visual_visual_visual_visual_material">
                <color rgba="0.837524 0.970755 1.000000 1.0" />
            </material>
        </visual>
    </link>
    <joint type="revolute" name="Ljoint1">
        <axis xyz="0 0 1" />
        <limit lower="0.0" upper="0.78539818525314" effort="1.0" velocity="0.69813168048859" />
        <parent link="robotiq_base_respondable_respondable_respondable_respondable_respondable_respondable" />
        <child link="Lfinger_respondable_respondable_respondable_respondable_respondable_respondable" />
        <origin xyz="0.074600 -0.004681 0.024736" rpy="-1.570793 -1.570796 0.000000" />
    </joint>
    <link name="Lfinger_respondable_respondable_respondable_respondable_respondable_respondable">
        <inertial>
            <origin rpy="1.570973 3.138400 -0.197320" xyz="0.005488 0.027096 0.000000" />
            <inertia izz="7.6569405819033e-06" iyy="2.9984947551464e-05" ixz="1.4177316404393e-20" ixy="5.9165832030089e-21" ixx="3.4844272621657e-05" iyz="3.1849061849001e-20" />
            <mass value="0.10000000149012" />
        </inertial>
        <collision name="Lfinger_respondable_respondable_respondable_respondable_respondable_respondable">
            <origin xyz="0.005488 0.027096 0.000000" rpy="1.570973 3.138400 -0.197320" />
            <geometry>
                <box size="0.015803 0.033427 0.071444" />
            </geometry>
        </collision>
        <visual name="Lfinger_respondable_respondable_respondable_respondable_respondable_visual">
            <origin xyz="0.005488 0.027096 0.000000" rpy="1.570973 3.138400 -0.197320" />
            <geometry>
                <mesh filename="models/urdf/ur5_industrial_16505/ur5_industrial_1_Lfinger_respondable_respondable_respondable_respondable_respondable_visual_vis_1.dae" />
            </geometry>
            <material name="Lfinger_respondable_respondable_respondable_respondable_respondable_visual_material">
                <color rgba="0.282317 0.282389 0.282389 1.0" />
            </material>
        </visual>
        <visual name="Lfinger_respondable_respondable_respondable_respondable_respondable_visual">
            <origin xyz="0.005488 0.027096 0.000000" rpy="1.570973 3.138400 -0.197320" />
            <geometry>
                <mesh filename="models/urdf/ur5_industrial_16505/ur5_industrial_1_Lfinger_respondable_respondable_respondable_respondable_respondable_visual_vis_2.dae" />
            </geometry>
            <material name="Lfinger_respondable_respondable_respondable_respondable_respondable_visual_material">
                <color rgba="0.837524 0.970755 1.000000 1.0" />
            </material>
        </visual>
    </link>
    <joint type="continuous" name="Ljoint2">
        <axis xyz="0 0 1" />
        <parent link="Lfinger_respondable_respondable_respondable_respondable_respondable_respondable" />
        <child link="LfingerTip_respondable_respondable_respondable_respondable_respondable_respondable" />
        <origin xyz="0.011178 0.055909 0.000005" rpy="3.141589 3.141598 -2.617995" />
    </joint>
    <link name="LfingerTip_respondable_respondable_respondable_respondable_respondable_respondable">
        <inertial>
            <origin rpy="1.570786 3.141585 2.618120" xyz="0.011428 0.016336 -0.000007" />
            <inertia izz="1.0653864139997e-05" iyy="3.3094096464058e-05" ixz="9.3519319562104e-06" ixy="-1.599790949334e-09" ixx="3.0898985486283e-05" iyz="3.0402050629753e-09" />
            <mass value="0.10000000149012" />
        </inertial>
        <collision name="LfingerTip_respondable_respondable_respondable_respondable_respondable_respondable">
            <origin xyz="0.011081 0.025434 -0.000005" rpy="1.570786 3.141585 2.618120" />
            <geometry>
                <box size="0.009509 0.025404 0.036832" />
            </geometry>
        </collision>
        <collision name="LfingerTip_respondable_respondable_respondable_respondable_respondable_respondable">
            <origin xyz="0.014107 0.016941 -0.000006" rpy="-1.570929 3.141602 -0.523473" />
            <geometry>
                <box size="0.008509 0.014223 0.025144" />
            </geometry>
        </collision>
        <collision name="LfingerTip_respondable_respondable_respondable_respondable_respondable_respondable">
            <origin xyz="0.009799 -0.010306 -0.000009" rpy="2.711576 1.571041 -1.477086" />
            <geometry>
                <box size="0.011078 0.012672 0.022135" />
            </geometry>
        </collision>
        <visual name="LfingerTip_respondable_respondable_respondable_respondable_respondable_visual">
            <origin xyz="0.015281 0.010303 -0.000006" rpy="1.570917 3.141585 2.618145" />
            <geometry>
                <mesh filename="models/urdf/ur5_industrial_16505/ur5_industrial_1_LfingerTip_respondable_respondable_respondable_respondable_respondable_visual_vis_1.dae" />
            </geometry>
            <material name="LfingerTip_respondable_respondable_respondable_respondable_respondable_visual_material">
                <color rgba="0.282317 0.282389 0.282389 1.0" />
            </material>
        </visual>
        <visual name="LfingerTip_respondable_respondable_respondable_respondable_respondable_visual">
            <origin xyz="0.015281 0.010303 -0.000006" rpy="1.570917 3.141585 2.618145" />
            <geometry>
                <mesh filename="models/urdf/ur5_industrial_16505/ur5_industrial_1_LfingerTip_respondable_respondable_respondable_respondable_respondable_visual_vis_2.dae" />
            </geometry>
            <material name="LfingerTip_respondable_respondable_respondable_respondable_respondable_visual_material">
                <color rgba="0.305882 0.305882 0.305882 1.0" />
            </material>
        </visual>
    </link>
    <joint type="continuous" name="LactiveJoint">
        <axis xyz="0 0 1" />
        <parent link="robotiq_base_respondable_respondable_respondable_respondable_respondable_respondable" />
        <child link="LauxLink1Visible_visual_visual_visual_visual_visual_visual" />
        <origin xyz="0.067942 -0.004681 0.042599" rpy="-1.570793 -1.570796 0.000000" />
    </joint>
    <link name="LauxLink1Visible_visual_visual_visual_visual_visual_visual">
        <visual name="LauxLink1Visible_visual_visual_visual_visual_visual_visual">
            <origin xyz="0.014963 -0.001623 0.000001" rpy="-1.570931 3.141677 -1.674482" />
            <geometry>
                <mesh filename="models/urdf/ur5_industrial_16505/ur5_industrial_1_LauxLink1Visible_visual_visual_visual_visual_visual_visual_vis_1.dae" />
            </geometry>
            <material name="LauxLink1Visible_visual_visual_visual_visual_visual_visual_material">
                <color rgba="0.282317 0.282389 0.282389 1.0" />
            </material>
        </visual>
        <visual name="LauxLink1Visible_visual_visual_visual_visual_visual_visual">
            <origin xyz="0.014963 -0.001623 0.000001" rpy="-1.570931 3.141677 -1.674482" />
            <geometry>
                <mesh filename="models/urdf/ur5_industrial_16505/ur5_industrial_1_LauxLink1Visible_visual_visual_visual_visual_visual_visual_vis_2.dae" />
            </geometry>
            <material name="LauxLink1Visible_visual_visual_visual_visual_visual_visual_material">
                <color rgba="0.837524 0.970755 1.000000 1.0" />
            </material>
        </visual>
    </link>
    <joint type="continuous" name="LauxJoint2">
        <axis xyz="0 0 1" />
        <parent link="LauxLink1Visible_visual_visual_visual_visual_visual_visual" />
        <child link="LauxLink2Visible_visual_visual_visual_visual_visual_visual" />
        <origin xyz="0.031465 -0.004244 -0.000000" rpy="3.141592 3.141593 -3.141592" />
    </joint>
    <link name="LauxLink2Visible_visual_visual_visual_visual_visual_visual">
        <visual name="LauxLink2Visible_visual_visual_visual_visual_visual_visual">
            <origin xyz="0.003104 0.023609 -0.000000" rpy="-1.570795 3.141585 -0.130688" />
            <geometry>
                <mesh filename="models/urdf/ur5_industrial_16505/ur5_industrial_1_LauxLink2Visible_visual_visual_visual_visual_visual_visual_vis_1.dae" />
            </geometry>
            <material name="LauxLink2Visible_visual_visual_visual_visual_visual_visual_material">
                <color rgba="0.282317 0.282389 0.282389 1.0" />
            </material>
        </visual>
        <visual name="LauxLink2Visible_visual_visual_visual_visual_visual_visual">
            <origin xyz="0.003104 0.023609 -0.000000" rpy="-1.570795 3.141585 -0.130688" />
            <geometry>
                <mesh filename="models/urdf/ur5_industrial_16505/ur5_industrial_1_LauxLink2Visible_visual_visual_visual_visual_visual_visual_vis_2.dae" />
            </geometry>
            <material name="LauxLink2Visible_visual_visual_visual_visual_visual_visual_material">
                <color rgba="0.837524 0.970755 1.000000 1.0" />
            </material>
        </visual>
    </link>
</robot>
